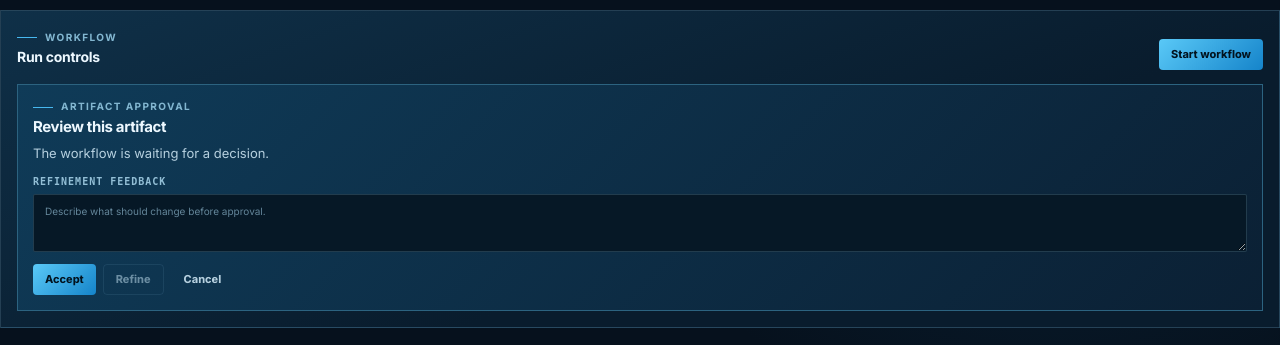
Test case: WorkflowPanel › uses accepting copy while artifact acceptance is pending
Click the button "Accept": [64, 280] box [33,264,96,295]
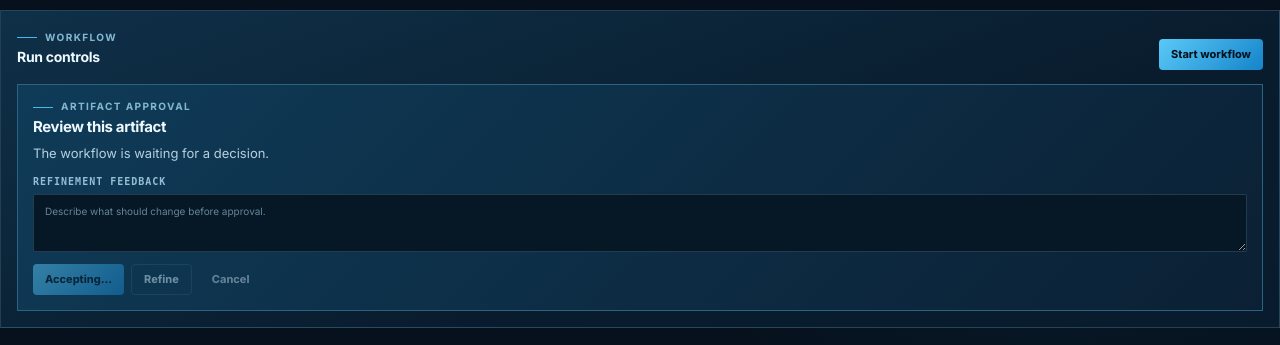
Check: the button "Accepting..." is shown, box [33,264,124,295]
